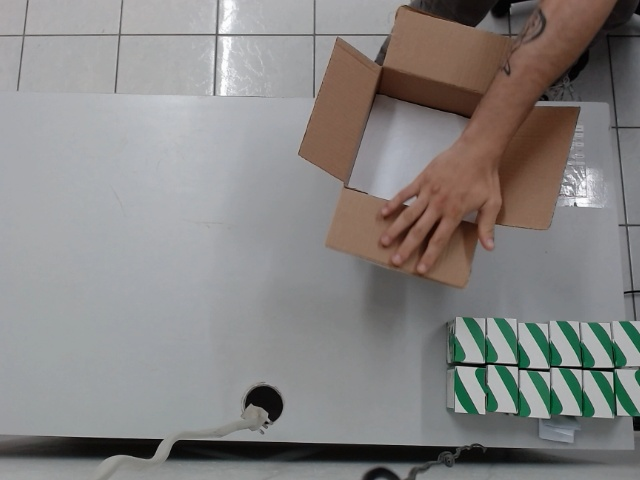caixa_principal: (288, 4, 584, 289)
